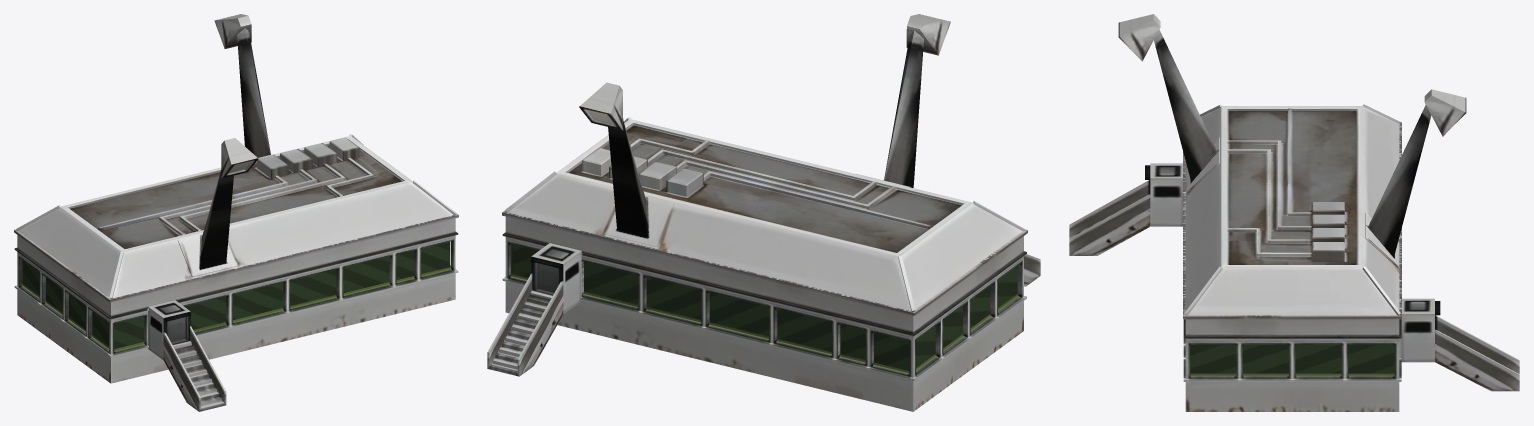
The model's file is terminal2_cad.glb.
3 renders of one model, left to right at view 1: azimuth 30°, elevation 25°; view 2: azimuth 150°, elevation 25°; view 3: azimuth 270°, elevation 25°, orthographic. The views are drawn at different scales.
Parts seen in each view (by area): view 1: Terminal; view 2: Terminal; view 3: Terminal.
Part boxes in pixels (x1,y1,x2,y2): Terminal: (14, 14, 458, 411); Terminal: (487, 14, 1040, 411); Terminal: (1069, 14, 1519, 411).
Bounding box in the file's own units: 25.8 × 16.2 × 25.29.
Materials: 1 (1 with a texture image).
